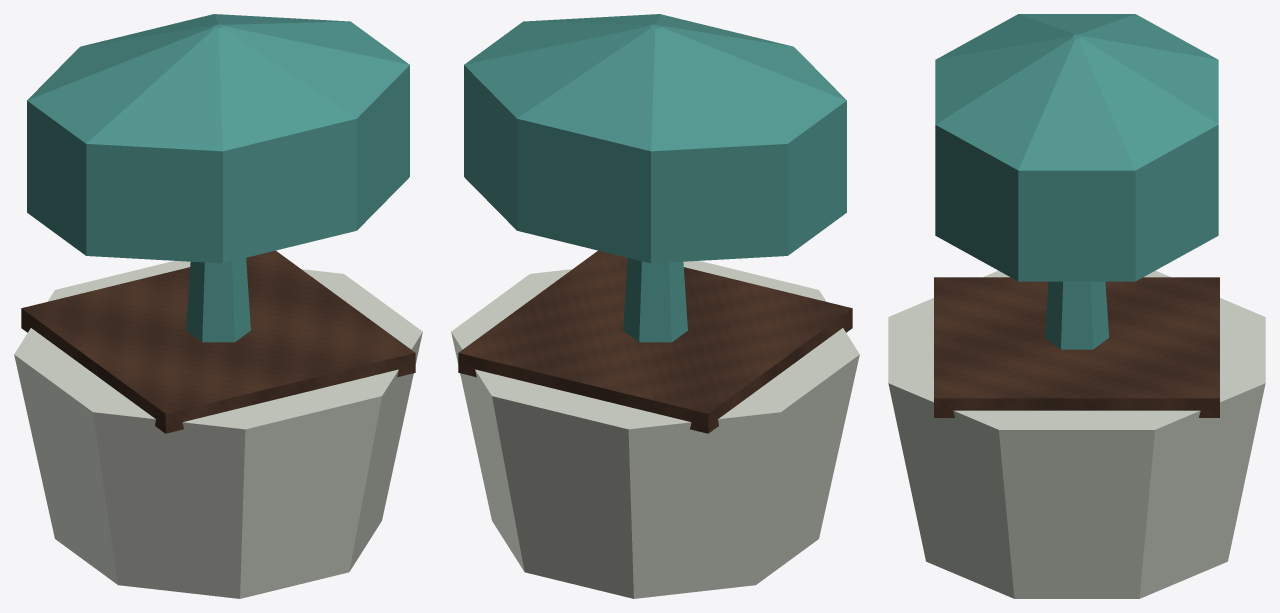
The model's file is City_Planter.glb.
3 views of the same model, side by side, from view 1: azimuth 30°, elevation 25°; view 2: azimuth 150°, elevation 25°; view 3: azimuth 270°, elevation 25° (orthographic).
Parts seen in each view (by area): view 1: City_Planter_AlienFoliage, City_Planter_Vessel, City_Planter_Soil; view 2: City_Planter_AlienFoliage, City_Planter_Vessel, City_Planter_Soil; view 3: City_Planter_AlienFoliage, City_Planter_Vessel, City_Planter_Soil.
Boxes of the visible parts, <box> form: City_Planter_AlienFoliage: <box>27,14,409,342</box>; City_Planter_Vessel: <box>14,261,422,598</box>; City_Planter_Soil: <box>21,250,415,433</box>; City_Planter_AlienFoliage: <box>464,14,846,342</box>; City_Planter_Vessel: <box>451,261,859,598</box>; City_Planter_Soil: <box>458,250,852,433</box>; City_Planter_AlienFoliage: <box>935,14,1218,349</box>; City_Planter_Vessel: <box>888,270,1265,598</box>; City_Planter_Soil: <box>934,277,1219,417</box>.
Bounding box in the file's own units: 1.39 × 2.02 × 1.39.
4 materials, 1 textured.
